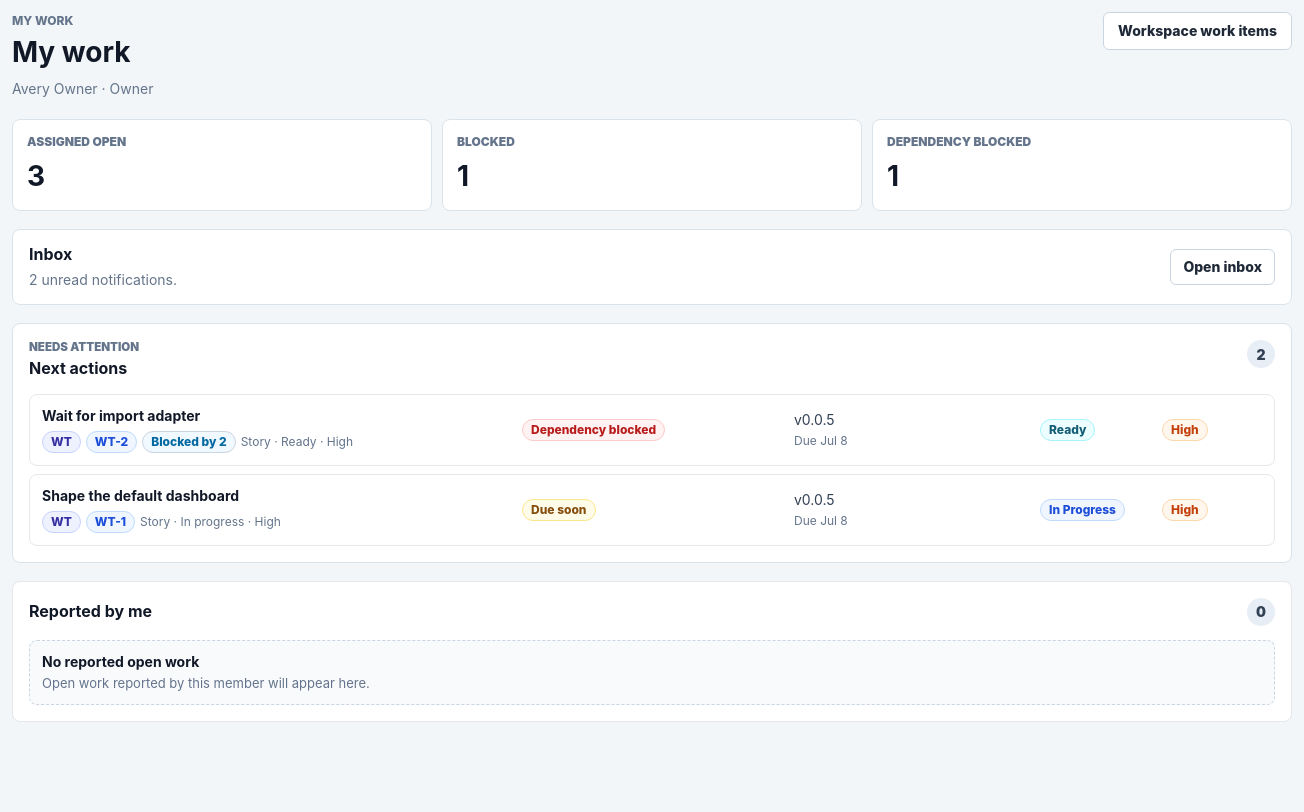
Test: MyWorkPageComponent › uses summary cards as queue filters with full-list links
The width and height of the screenshot is (1304, 812).
Click the button with class "summary-card" showing "Dependency blocked 1". click: (959, 141)
box: [872,119,1292,211]
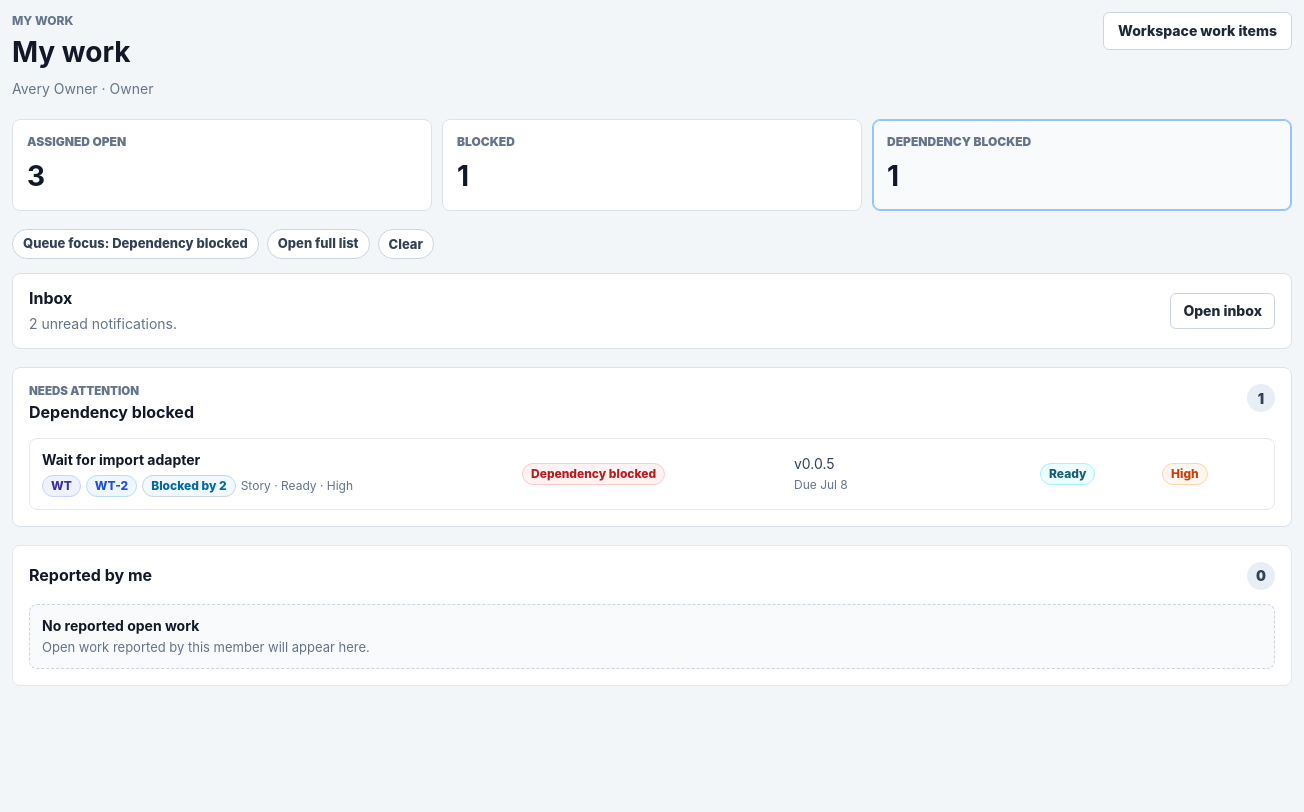
Expected: the link that starts with "Wait for import adapter" is shown, [29,438,1275,510]
Result: the text "Queue focus: Dependency blocked" is shown at [12,229,259,259]
